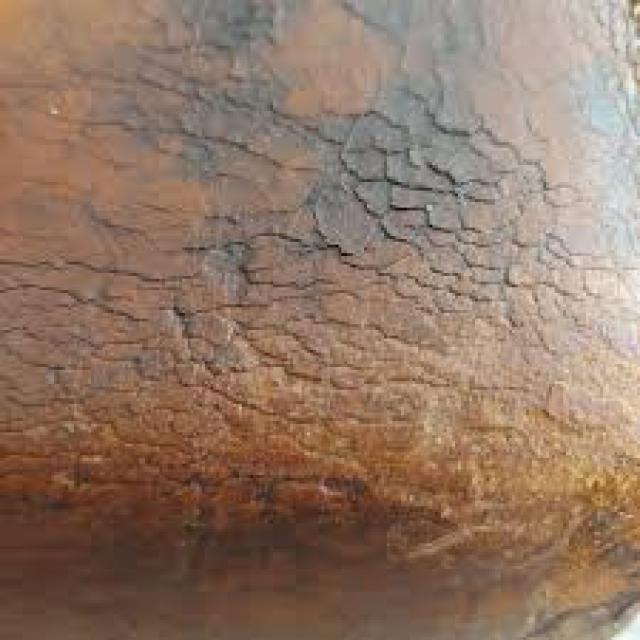Rotten surface: (29, 260, 508, 474), (174, 70, 523, 276)
